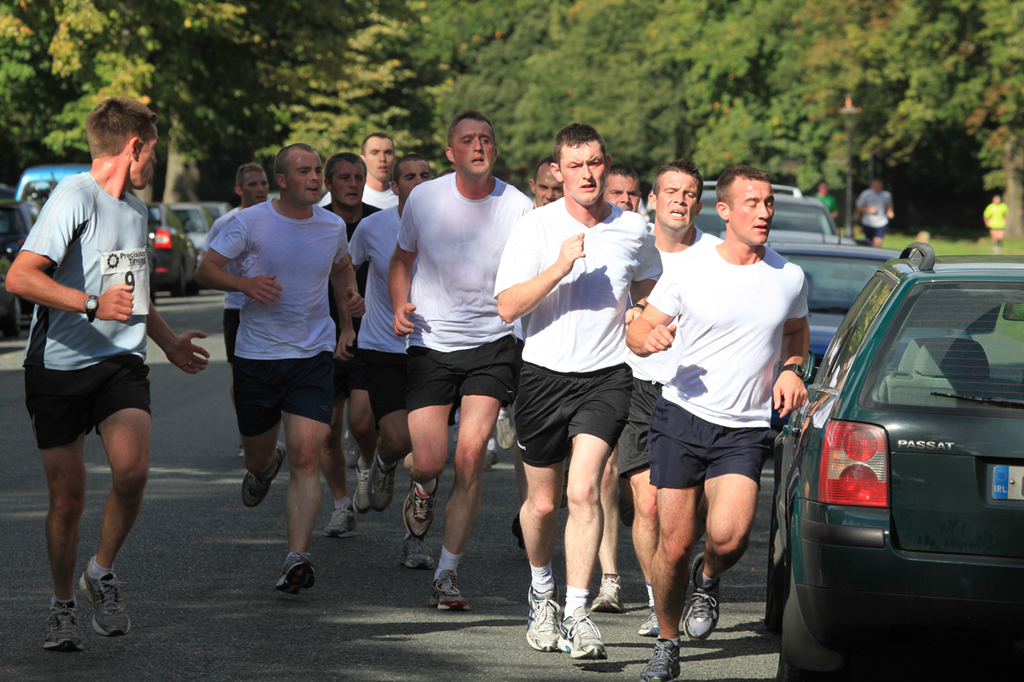Car: (688, 180, 1023, 681), (0, 159, 237, 339)
